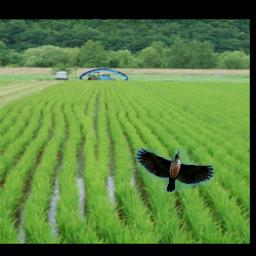Woodpecker: (137, 148, 214, 192)
